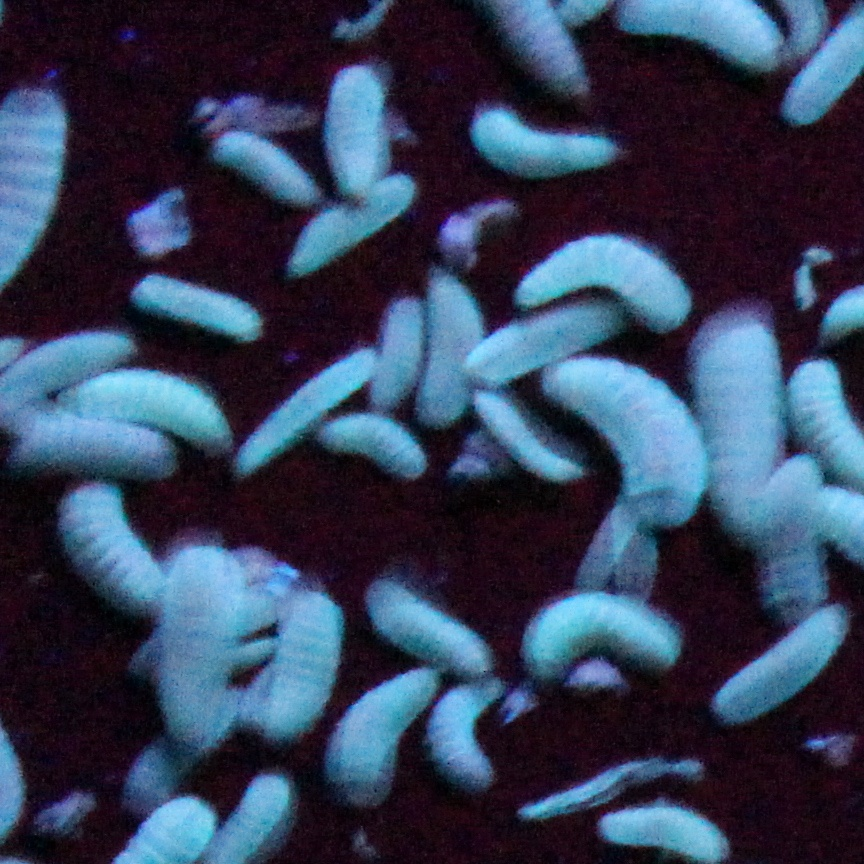larve: (536, 349, 706, 533), (688, 308, 784, 542), (704, 599, 854, 722), (154, 545, 245, 740), (238, 349, 368, 472), (518, 233, 688, 324), (749, 442, 834, 624), (327, 665, 445, 795), (454, 295, 631, 379), (520, 592, 690, 672), (56, 472, 159, 604), (290, 172, 411, 279), (365, 579, 495, 672), (52, 374, 229, 442), (263, 590, 340, 740), (472, 101, 627, 174), (15, 415, 172, 481), (415, 274, 481, 429), (590, 799, 736, 863), (309, 408, 431, 483), (129, 267, 261, 335), (213, 122, 318, 204), (429, 676, 504, 785), (327, 58, 386, 195), (363, 288, 424, 406)
